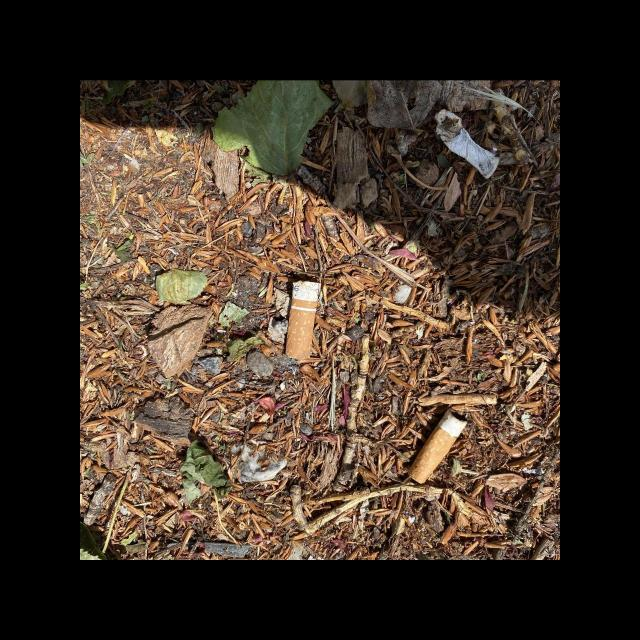cigarette: (407, 407, 468, 484), (434, 110, 500, 179), (284, 280, 322, 359)
